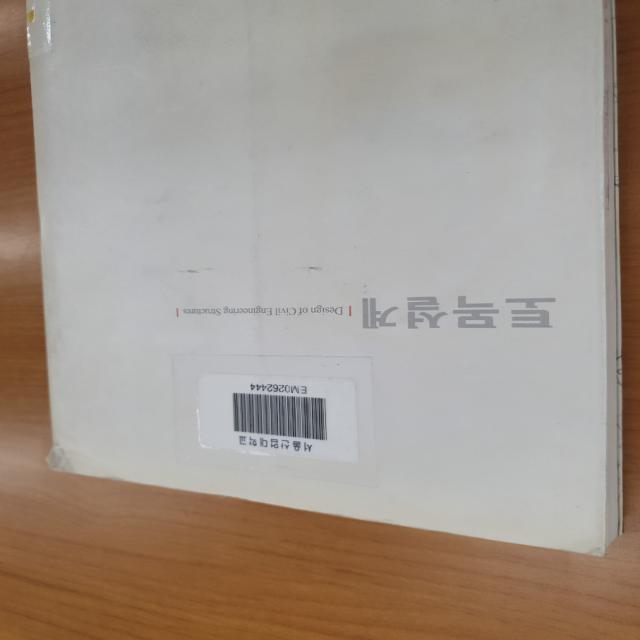Ripped: (32, 425, 122, 487)
Wornout: (570, 532, 617, 565)
